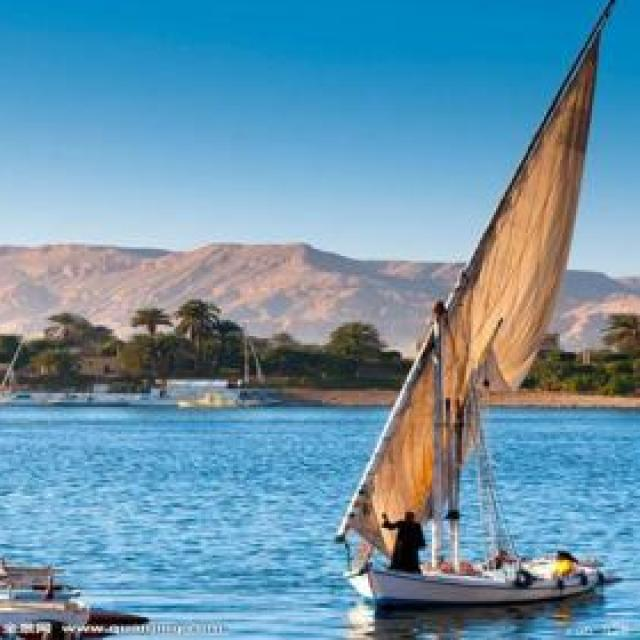sailboat: (348, 0, 617, 613)
